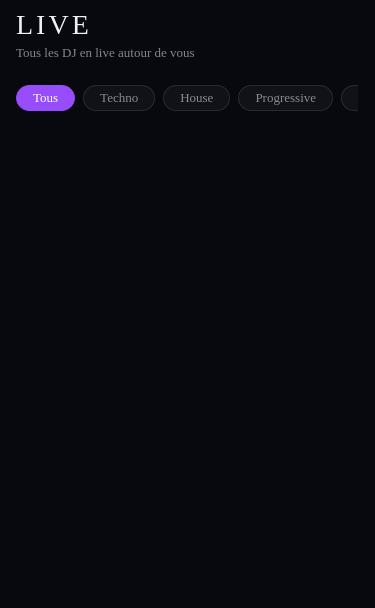
LivesScreen › revient à tous les lives après clic sur "Tous"
Click the text "Techno".
click(119, 98)  # box [100,90,138,106]
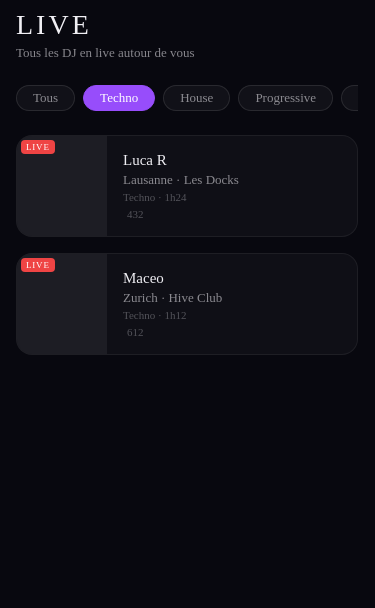
Click the text "Tous".
click(46, 98)  # box [33,90,58,106]
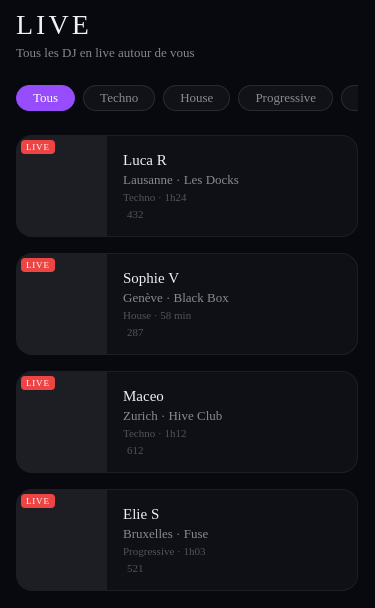
Expected: the text "Luca R" is shown, [123,152,167,168]
Expected: the text "Sophie V" is shown, [123,270,179,286]
